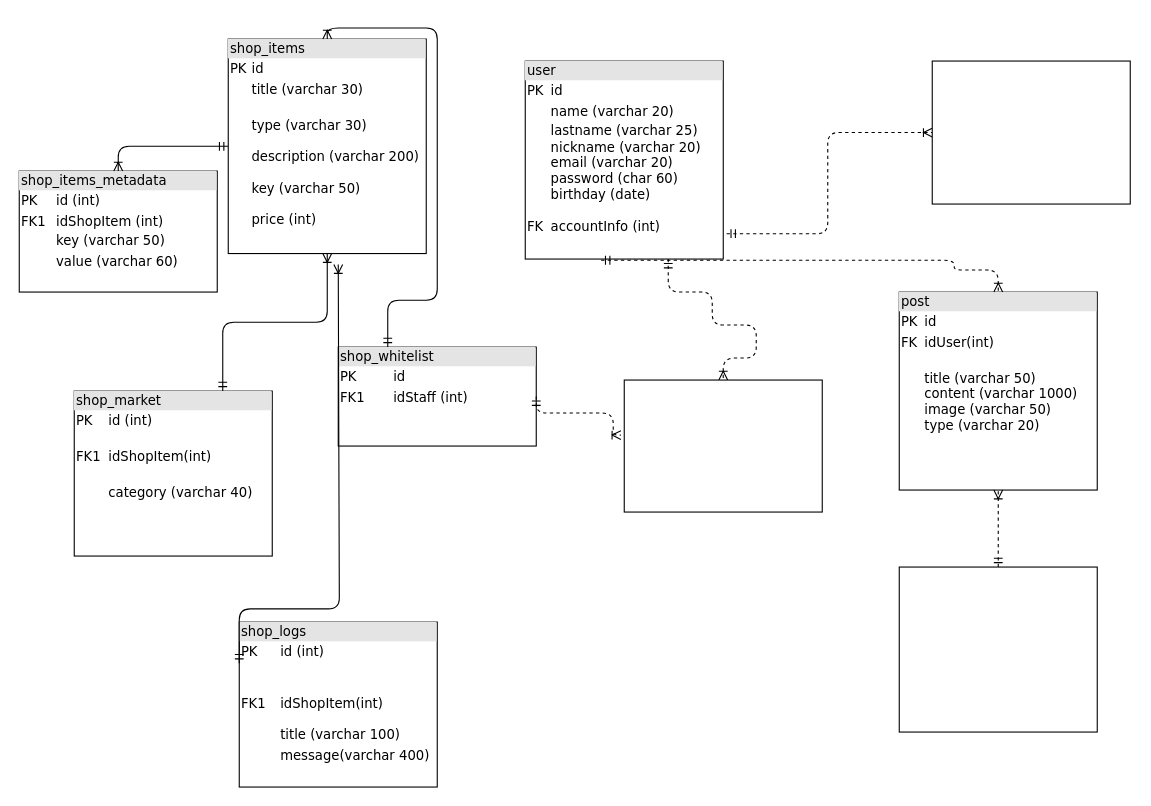
This 1151x806 diagram has some shape labels left out. The centre of each missing label's shape, as x and y in pixels:
"accountInfo PK id accountName (varchar 50) serial (varchar 32) nick (varchar 20)" goes at (x=1030, y=132).
"post_metadata PK id (int) FK idPost(int) key(varchar 50) value(varchar 50)" goes at (x=997, y=649).
"staff PK id FK idUser(int) level(int 11)" goes at (x=722, y=445).
